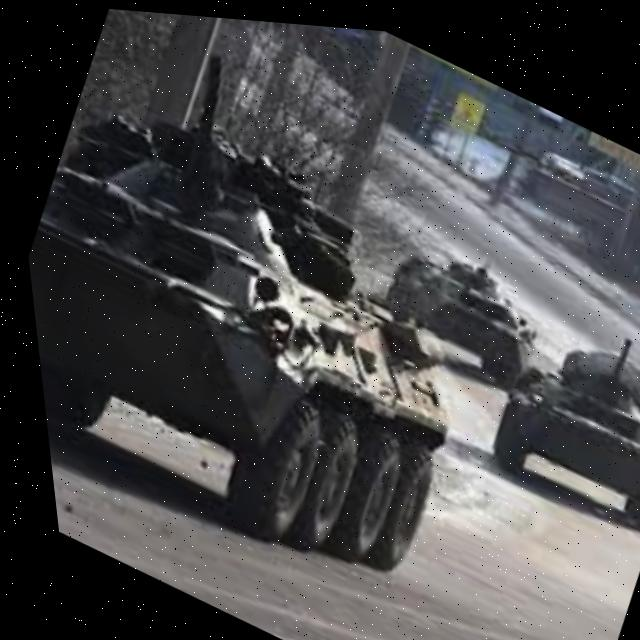MIL_APC: (5, 52, 550, 632), (452, 270, 640, 533), (354, 193, 577, 407)
